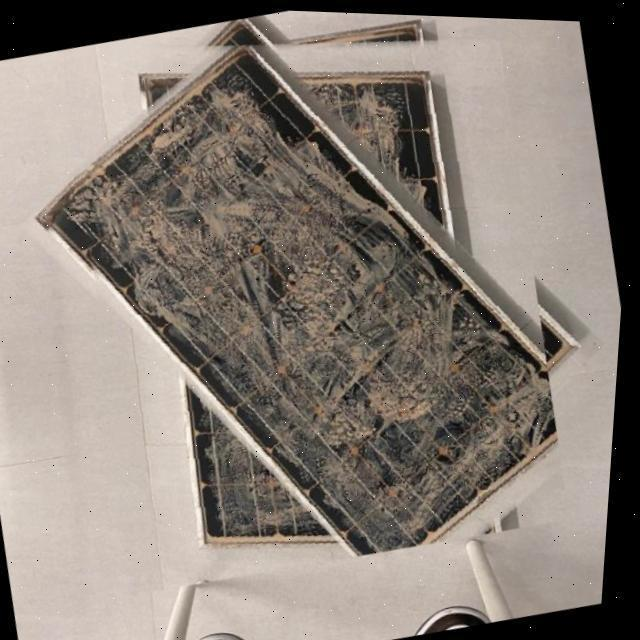Surface Contaminant: (37, 12, 568, 569)
